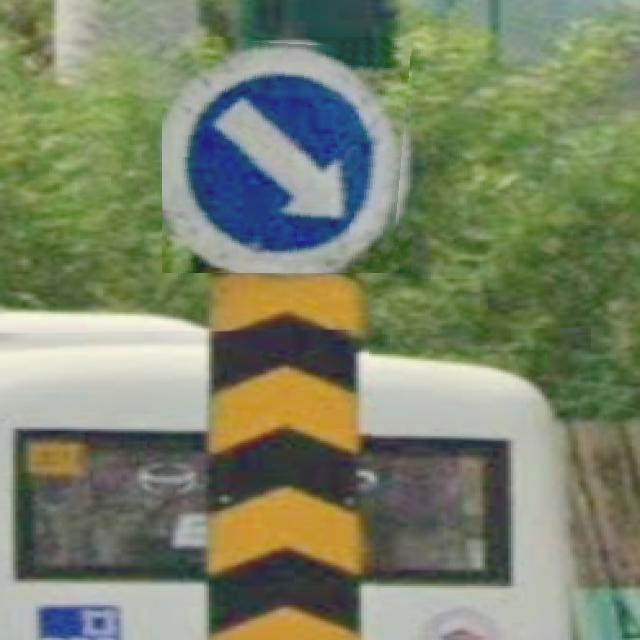keep right: (162, 37, 411, 273)
